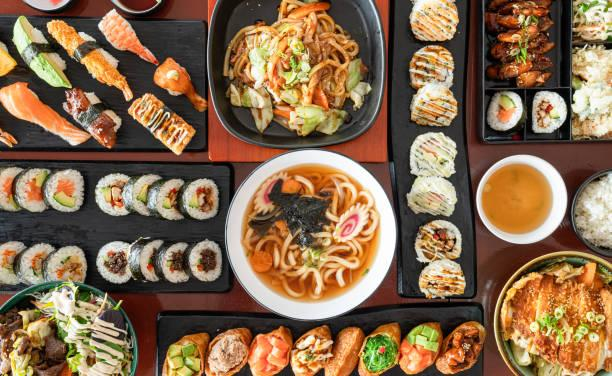Braised Crucian Carp: (0, 160, 230, 293), (224, 149, 397, 320), (2, 12, 209, 153), (385, 3, 475, 295), (207, 1, 383, 150), (158, 304, 472, 374), (493, 251, 609, 374), (478, 1, 571, 141), (2, 280, 138, 374), (476, 153, 565, 244), (107, 0, 165, 16)
